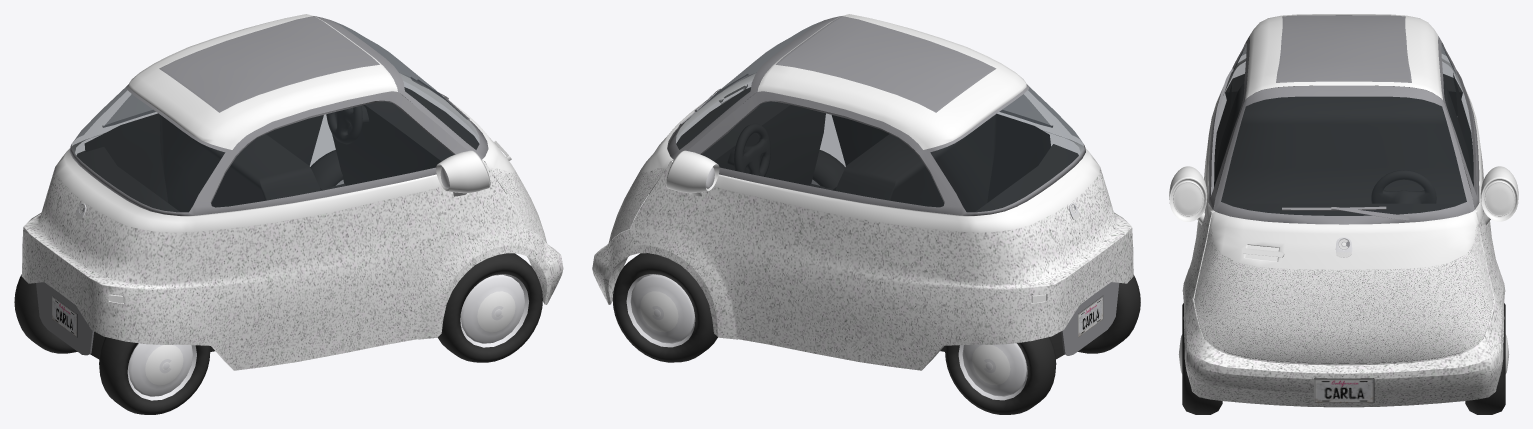
The model's file is vehicle_micro_microlino.glb.
3 views of the same model, side by side, from view 1: azimuth 30°, elevation 25°; view 2: azimuth 150°, elevation 25°; view 3: azimuth 270°, elevation 25° (orthographic). The views are drawn at different scales.
Parts seen in each view (by area): view 1: body; view 2: body; view 3: body.
Boxes of the visible parts, x1,y1,x2,y2 form: body: (14, 14, 563, 414); body: (592, 14, 1140, 414); body: (1169, 14, 1518, 414).
Bounding box in the file's own units: 2.21 × 1.38 × 1.48.
9 materials, 2 textured.
